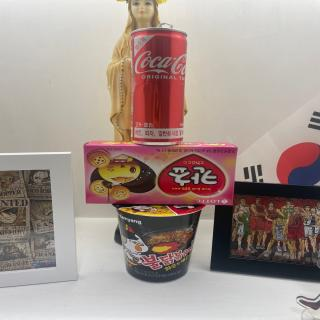cocacola: (132, 25, 188, 147)
